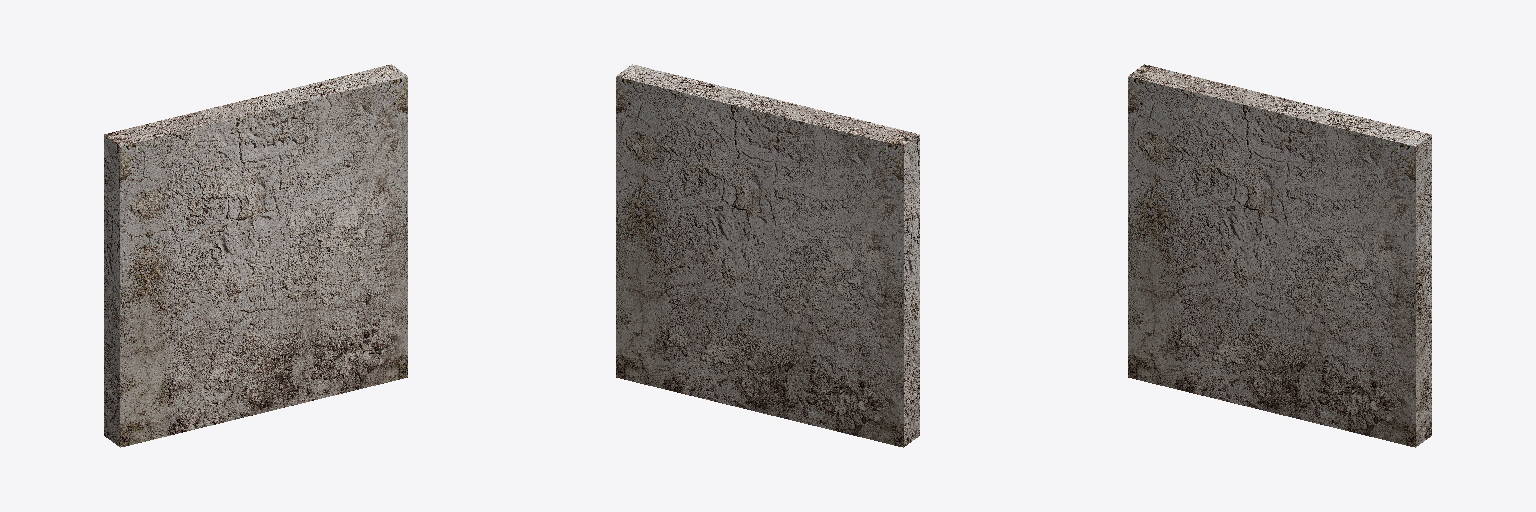
The picture shows the model from 3 angles: view 1: azimuth 30°, elevation 25°; view 2: azimuth 150°, elevation 25°; view 3: azimuth 330°, elevation 25°; orthographic projection.
Parts seen in each view (by area): view 1: Box001; view 2: Box001; view 3: Box001.
Part boxes in pixels (x1,y1,x2,y2): Box001: (104, 64, 407, 447); Box001: (616, 64, 919, 447); Box001: (1128, 64, 1431, 447).
Bounding box in the file's own units: 39.37 × 39.37 × 3.94.
Materials: 1 (1 with a texture image).